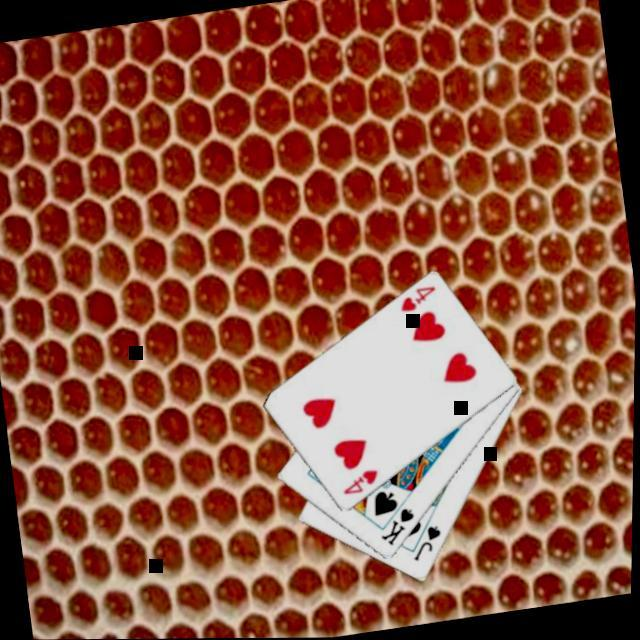4H: (394, 281, 440, 316), (337, 464, 382, 498)
JS: (405, 520, 448, 564)
KS: (373, 502, 421, 549)
